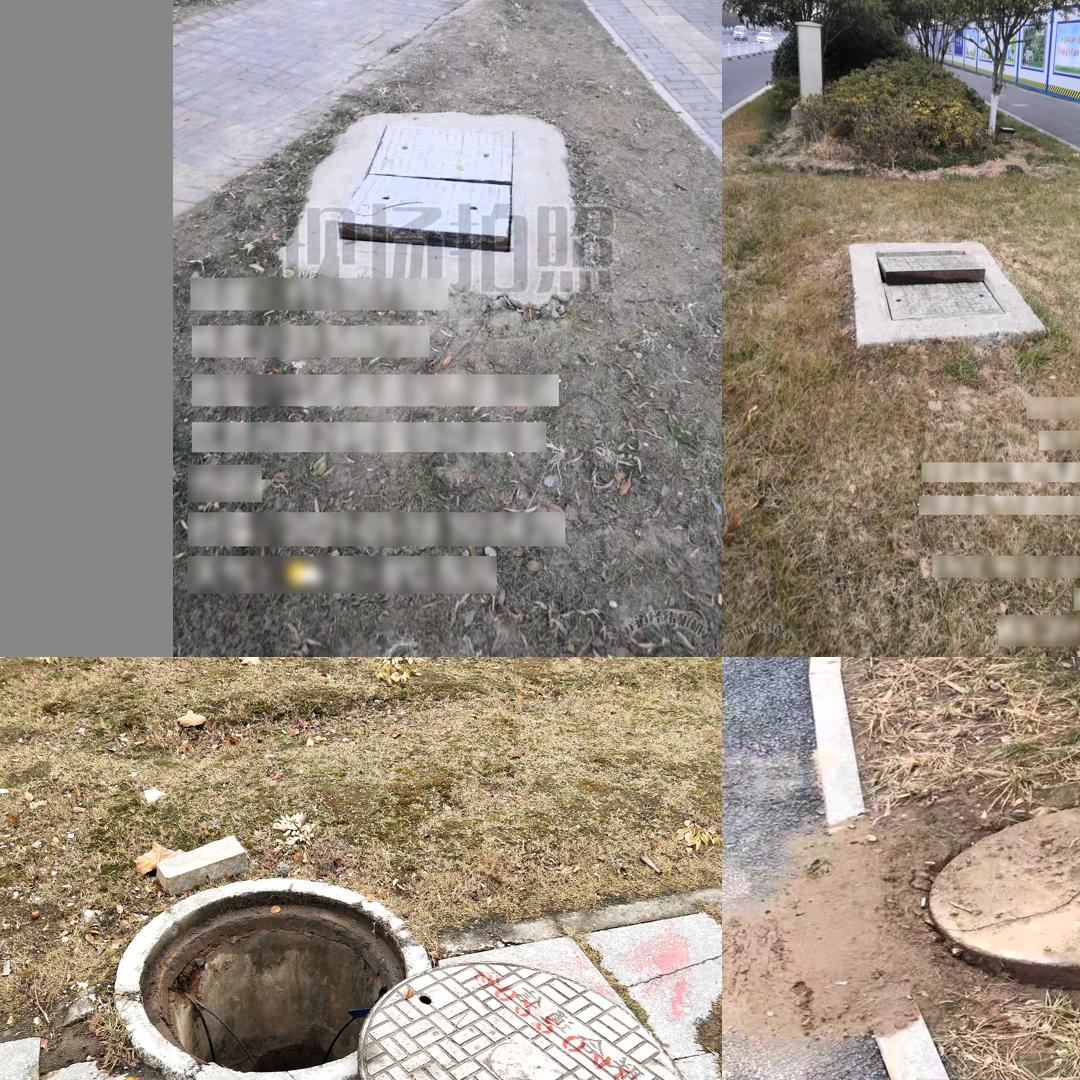uncovered: (113, 877, 693, 1080), (926, 799, 1080, 995), (337, 117, 520, 262), (873, 247, 1011, 330)
